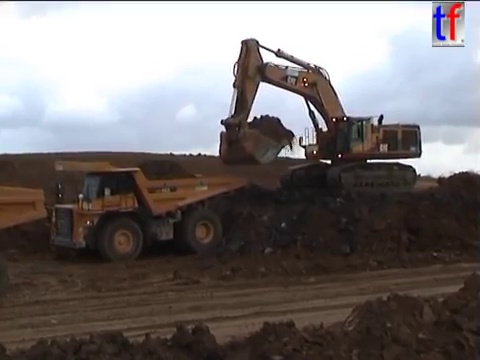excavator: (217, 36, 425, 195)
truck: (48, 157, 248, 263), (1, 182, 50, 300)
